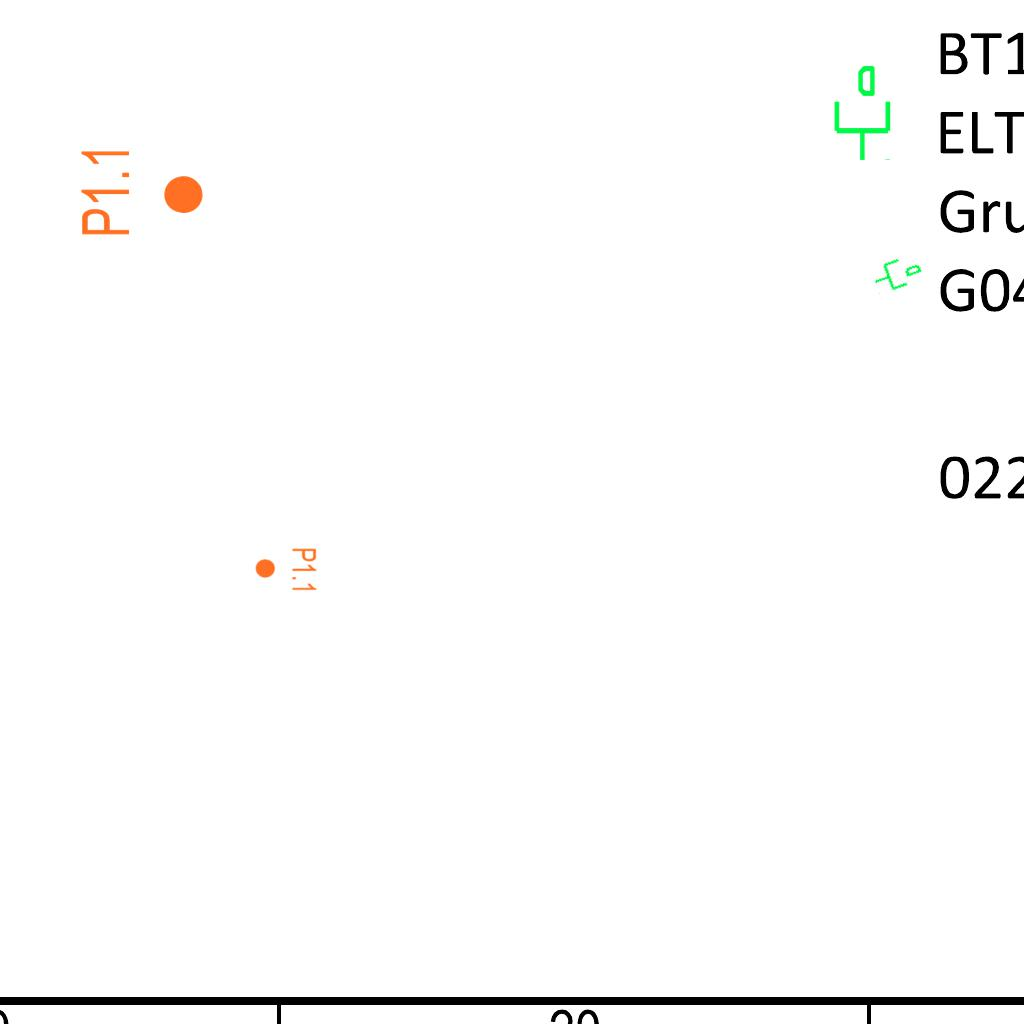Datenanschluss_einfach: (826, 63, 895, 163), (867, 248, 927, 298)
Downlight_LED_Einbauleuchten_Flur: (78, 145, 206, 238), (254, 547, 318, 593)
